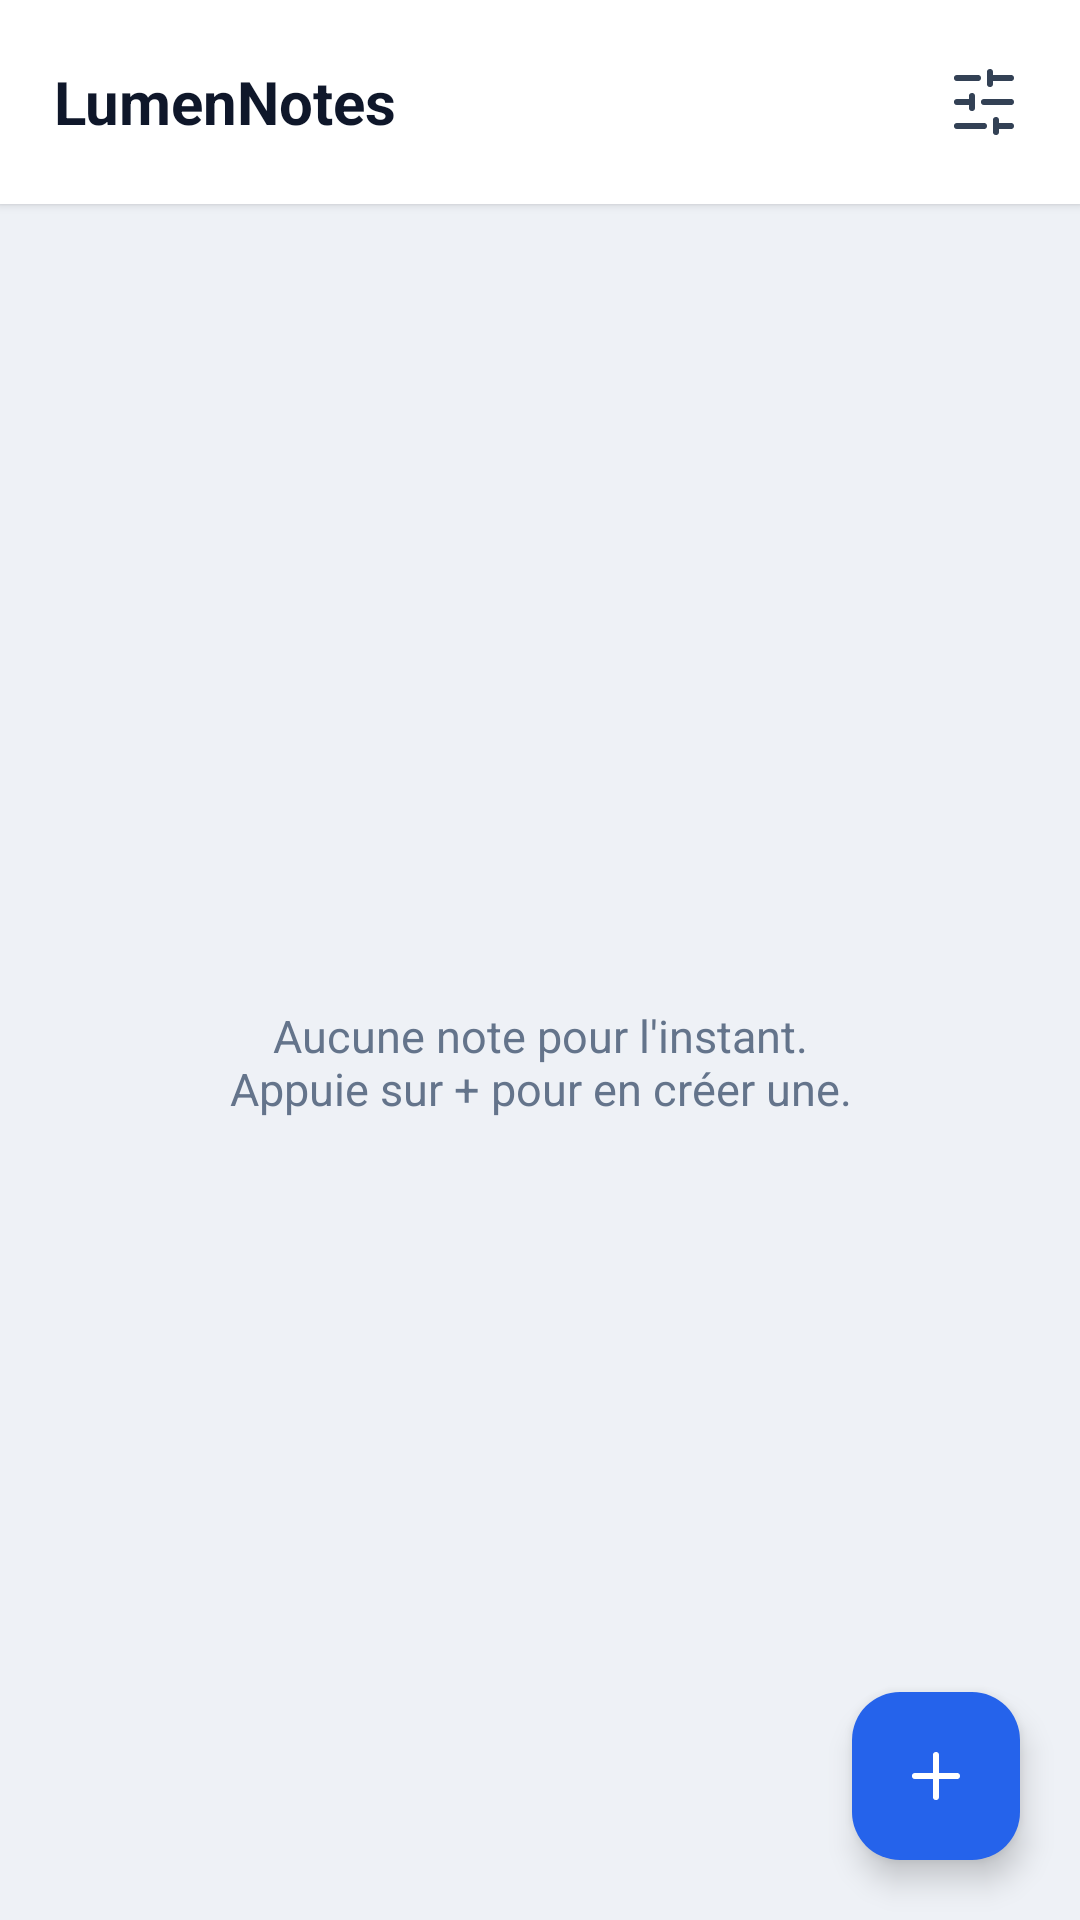

Named icons in this screenshot (1080×1920) and their centers, (x,y):
Nouvelle note: (936,1776)
Paramètres: (984,102)
